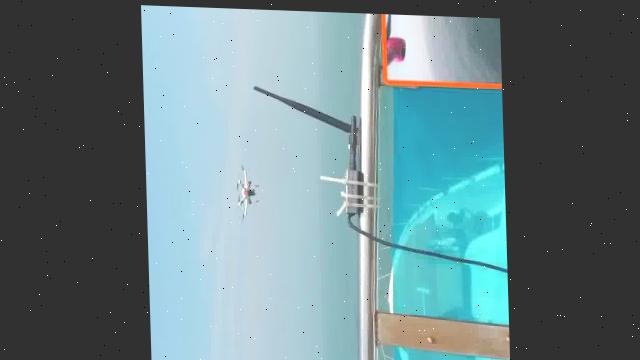drone: (229, 157, 263, 220)
